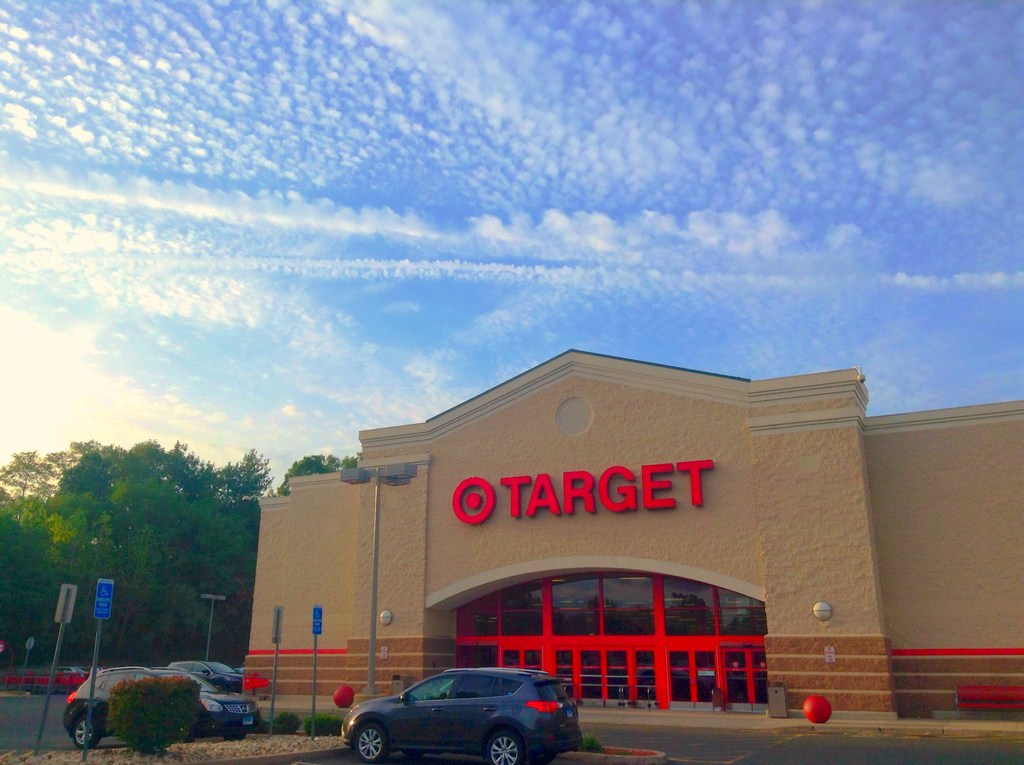Car: (341, 665, 583, 764), (62, 663, 262, 750), (167, 660, 243, 692), (55, 665, 92, 676), (232, 667, 241, 672)
